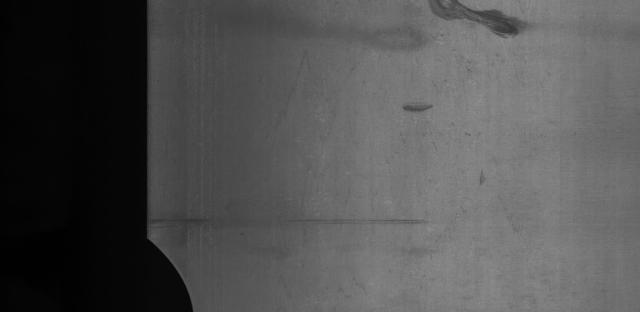crescent_gap: (121, 226, 218, 312)
